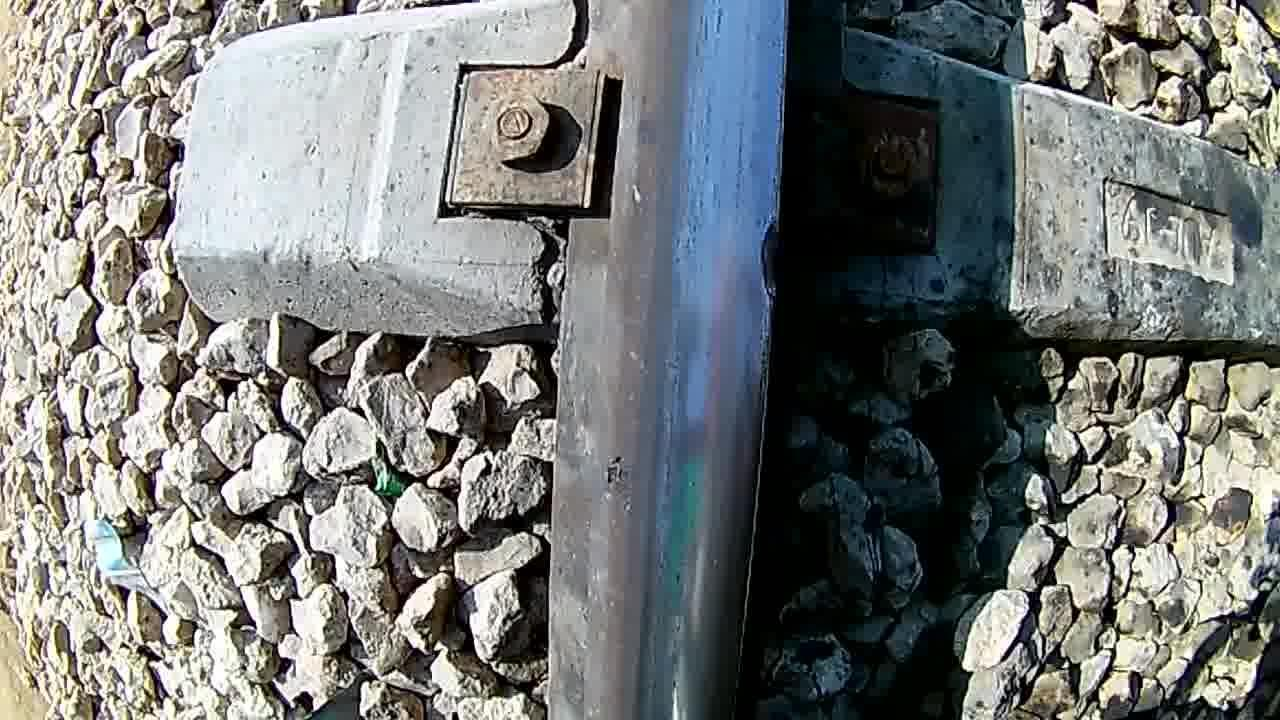crack: (582, 4, 772, 716)
